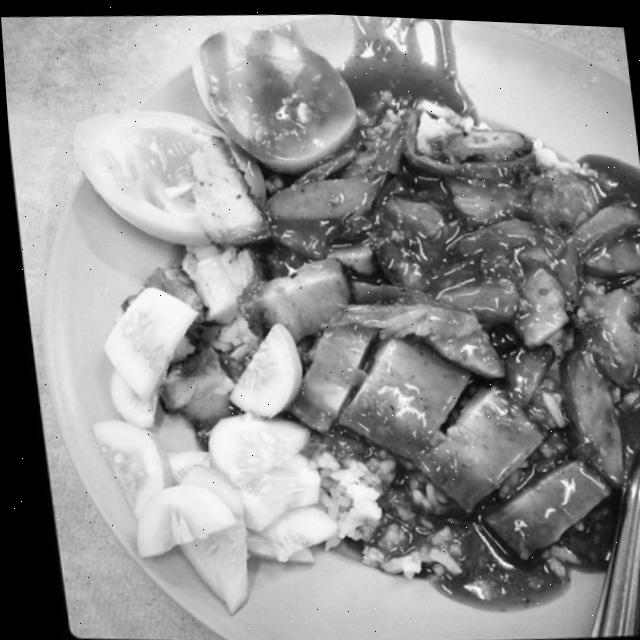猪肉菜式: (15, 1, 640, 640)
